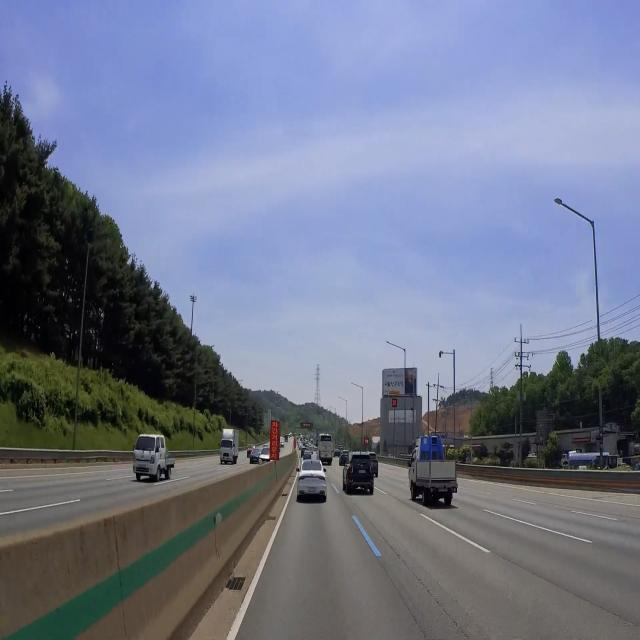car: (305, 483, 318, 497), (437, 484, 449, 496), (136, 462, 149, 473), (357, 466, 367, 477), (222, 454, 231, 464), (322, 452, 330, 461)
